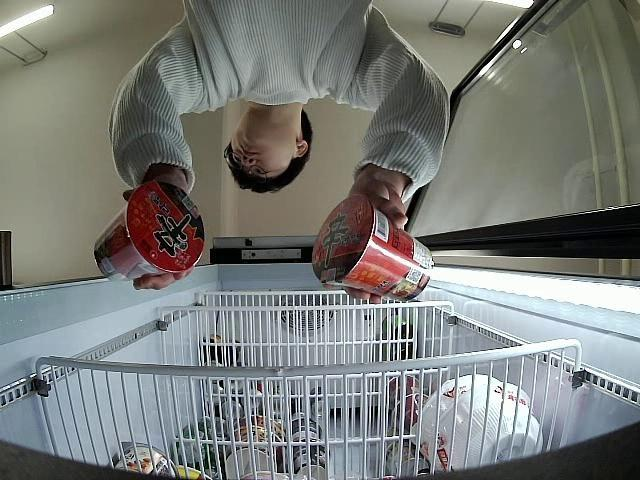02_shinRamen_S: (312, 196, 434, 298), (96, 181, 206, 282)
